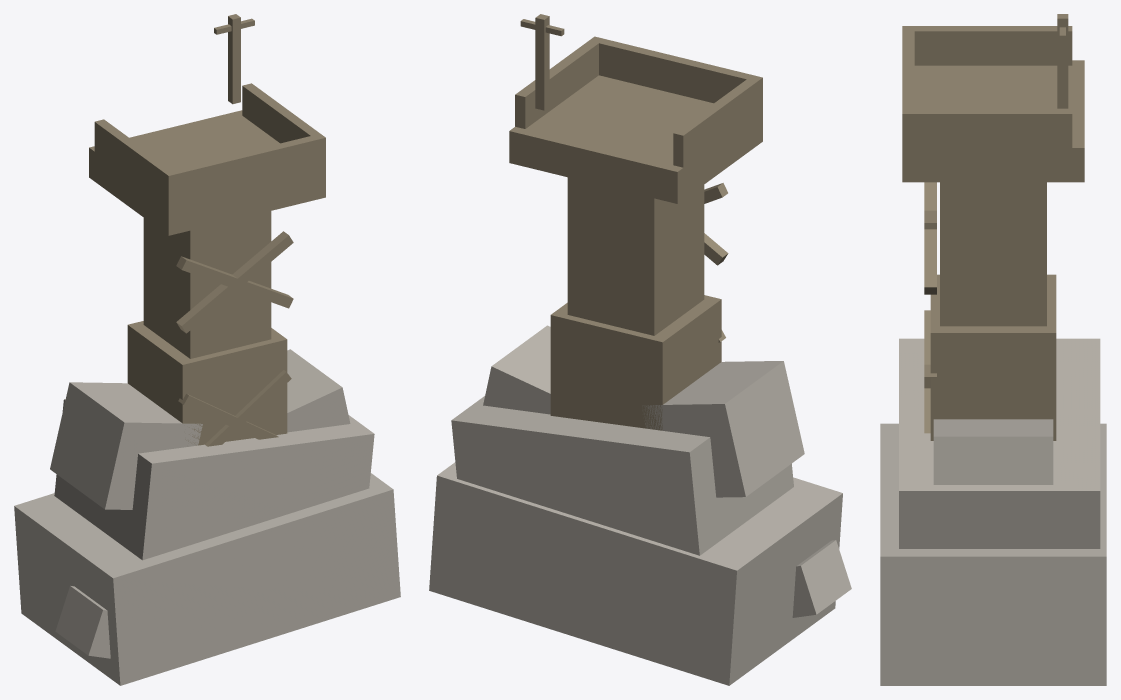
Rendered from ridge_watchtower.glb.
3 renders of one model, left to right at view 1: azimuth 30°, elevation 25°; view 2: azimuth 150°, elevation 25°; view 3: azimuth 270°, elevation 25°, orthographic. The views are drawn at different scales.
Parts seen in each view (by area): view 1: RidgeWatchtower, accent_RidgeWatchtower, accent_chunk_1, chunk_3, accent_chunk_2; view 2: RidgeWatchtower, accent_RidgeWatchtower, accent_chunk_1, chunk_3, accent_chunk_2; view 3: RidgeWatchtower, accent_RidgeWatchtower, accent_chunk_1, accent_chunk_2.
Boxes of the visible parts, bbox=[...] form: RidgeWatchtower: bbox=[14, 349, 400, 685]; accent_RidgeWatchtower: bbox=[89, 110, 325, 446]; accent_chunk_1: bbox=[94, 83, 325, 205]; chunk_3: bbox=[55, 586, 110, 658]; accent_chunk_2: bbox=[214, 14, 254, 104]; RidgeWatchtower: bbox=[429, 325, 842, 685]; accent_RidgeWatchtower: bbox=[509, 75, 762, 430]; accent_chunk_1: bbox=[515, 36, 762, 167]; chunk_3: bbox=[792, 540, 851, 617]; accent_chunk_2: bbox=[520, 14, 564, 110]; RidgeWatchtower: bbox=[880, 338, 1106, 685]; accent_RidgeWatchtower: bbox=[902, 60, 1084, 440]; accent_chunk_1: bbox=[902, 26, 1072, 147]; accent_chunk_2: bbox=[1057, 14, 1068, 108].
Bounding box in the file's own units: 1.28 × 2.26 × 0.72.
